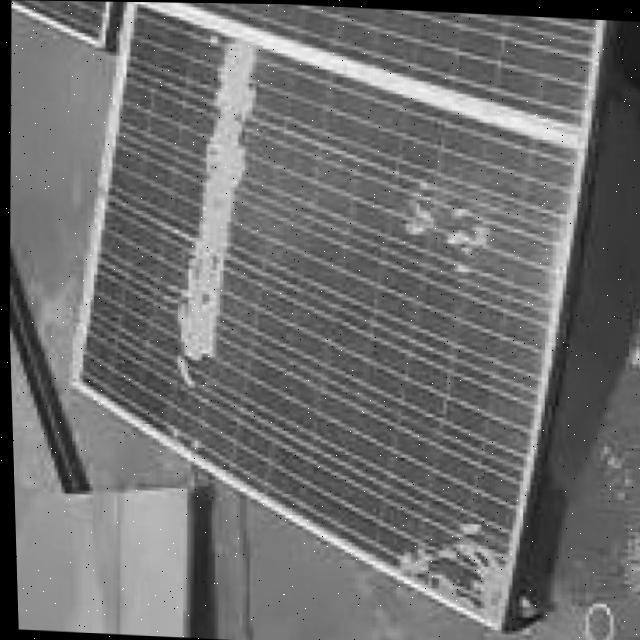Anomaly Solar Panel: (11, 8, 620, 624)
Snow: (161, 35, 268, 398), (382, 148, 519, 286), (378, 507, 514, 624)
